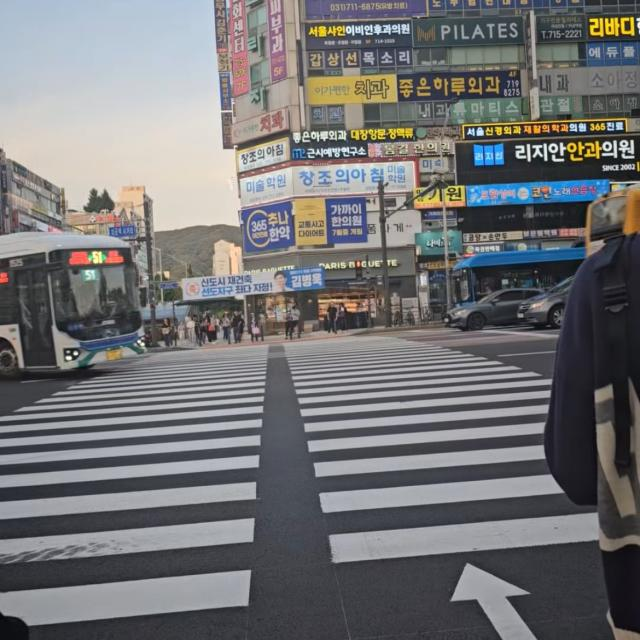red_light: (352, 260, 368, 285)
zebra: (1, 344, 640, 640)
